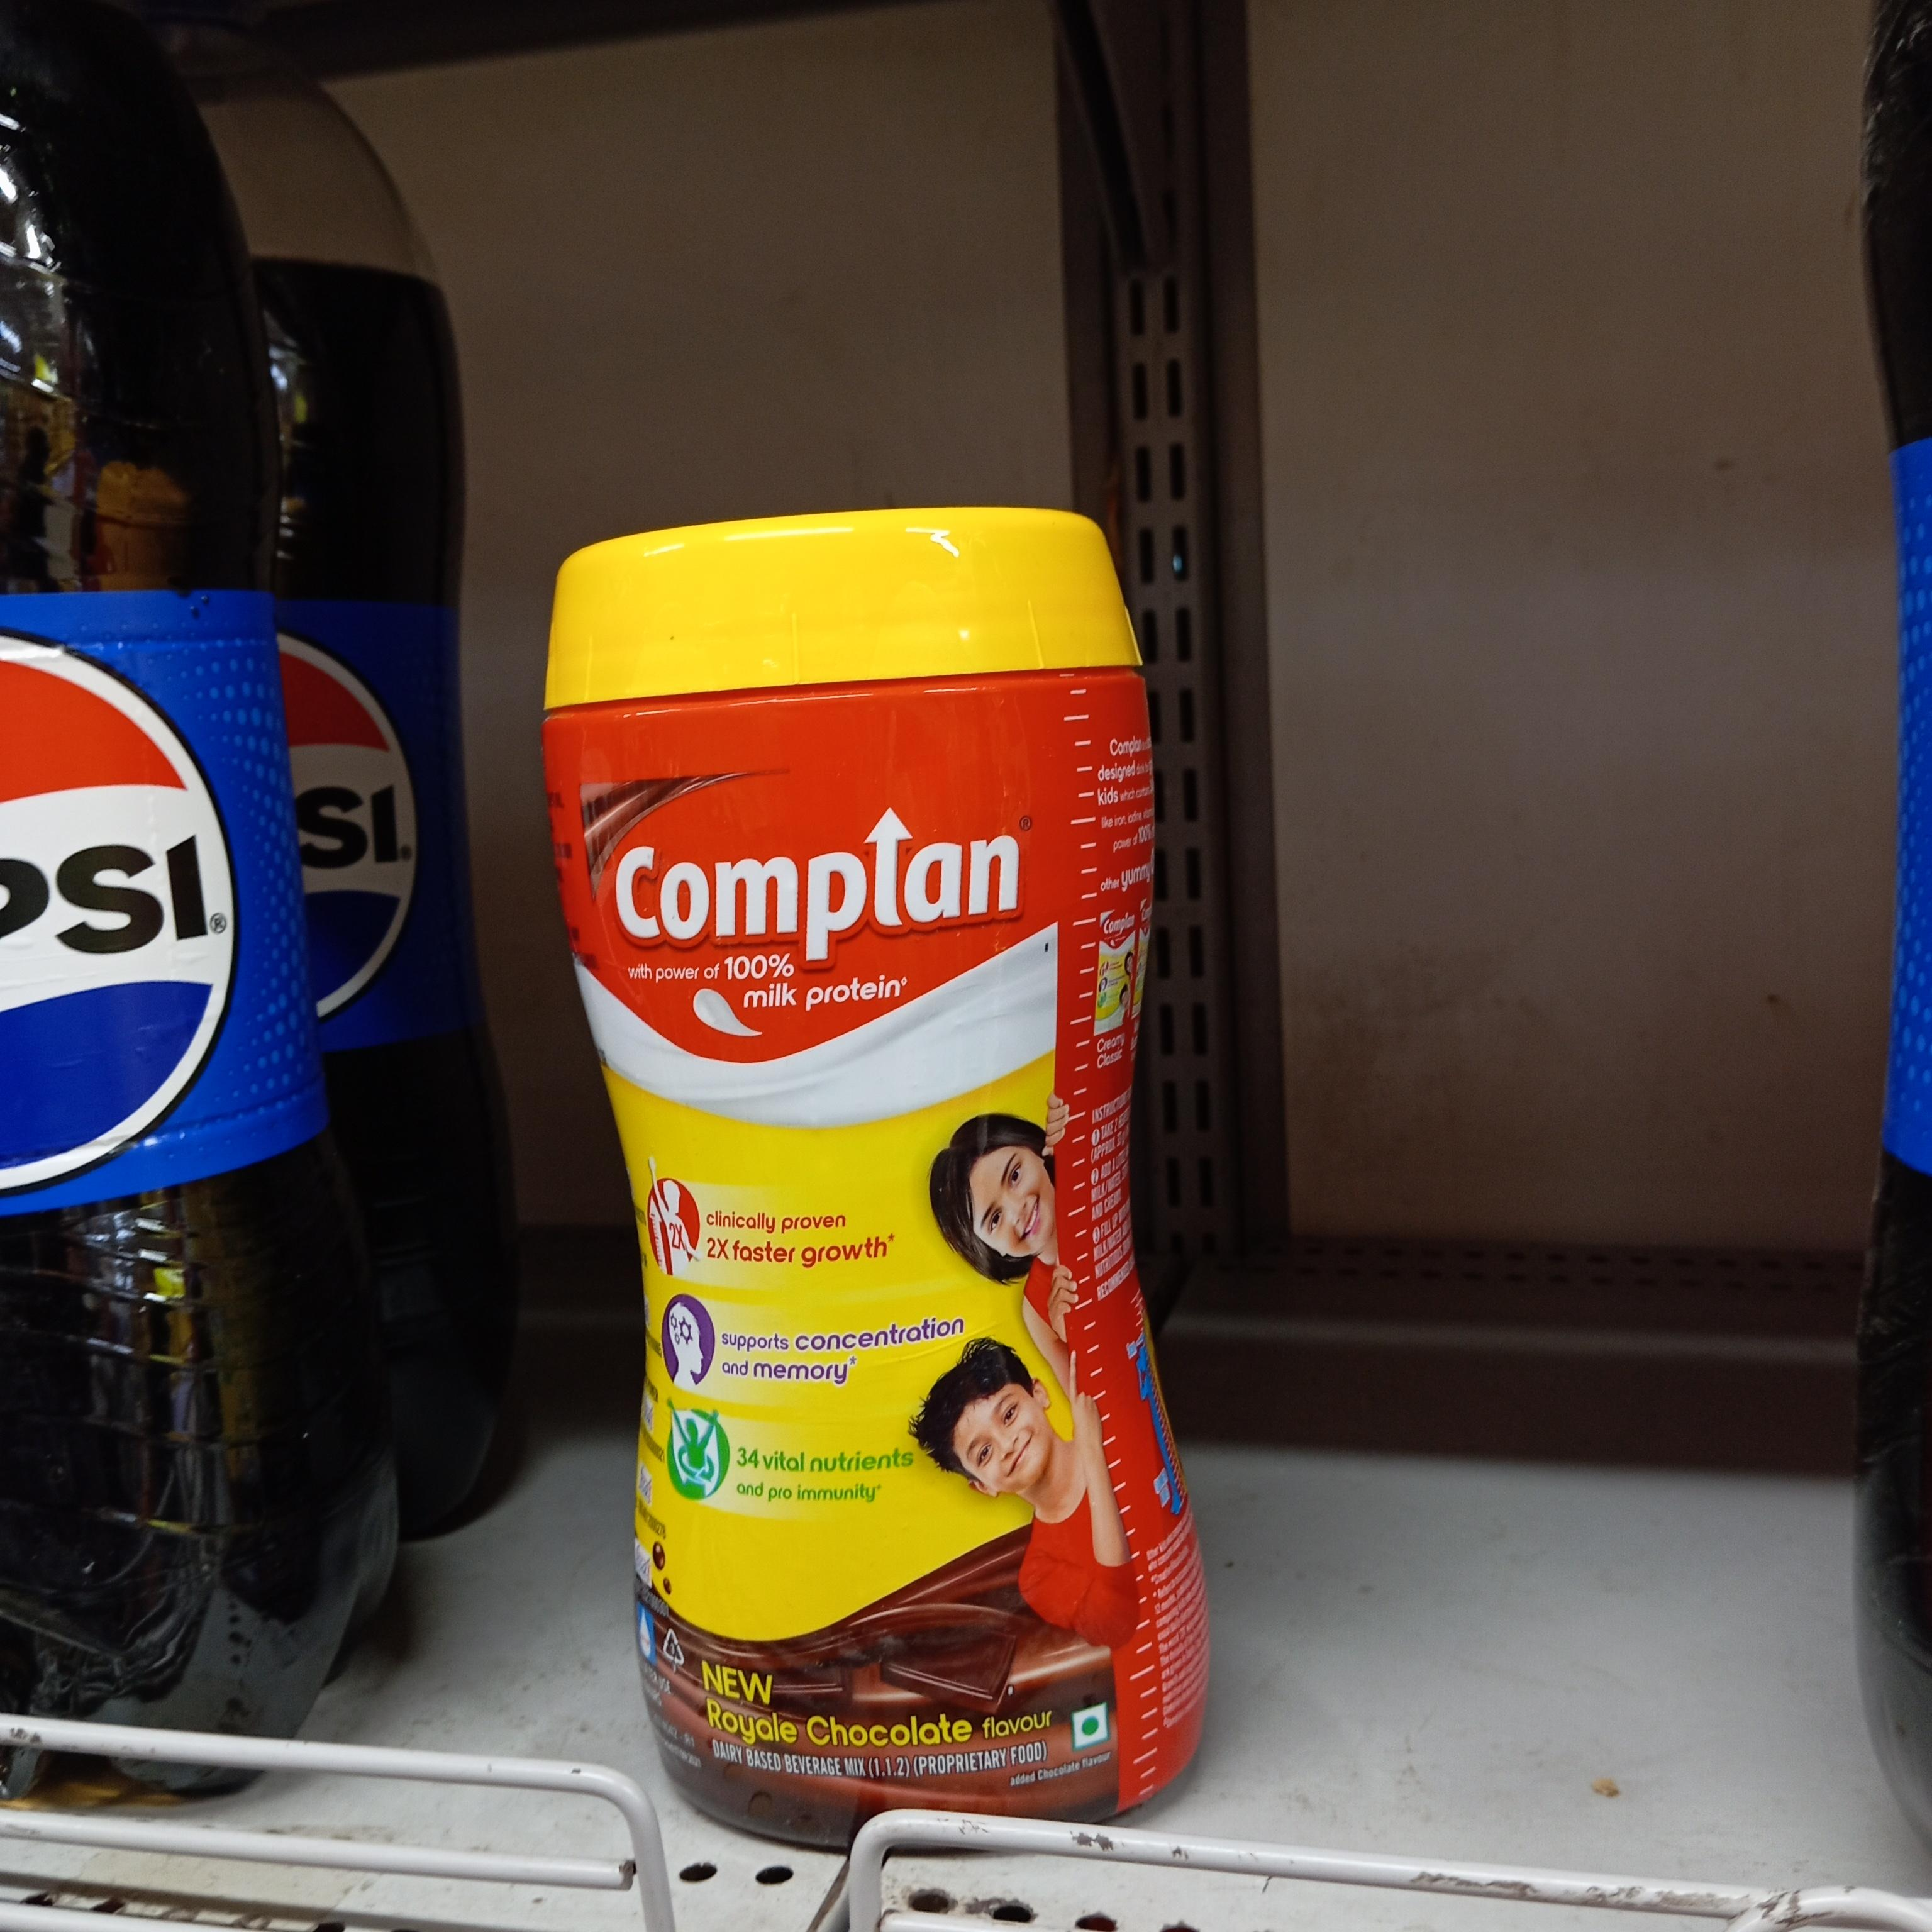COMPLAN_CHOCOLATE_500_GMS_JAR: (566, 508, 1191, 1813)
